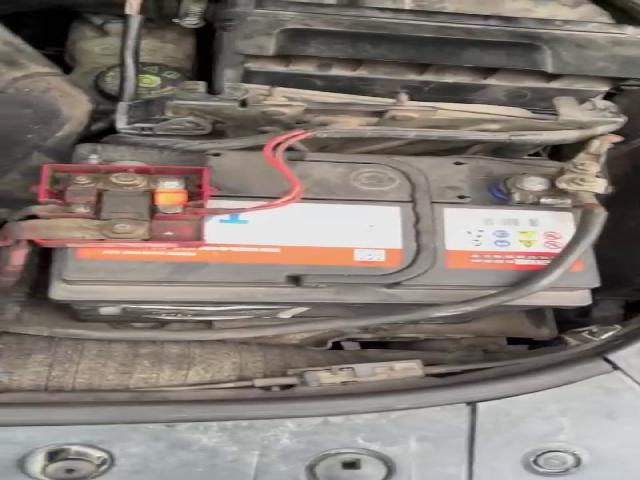accumulator: (4, 142, 610, 325)
